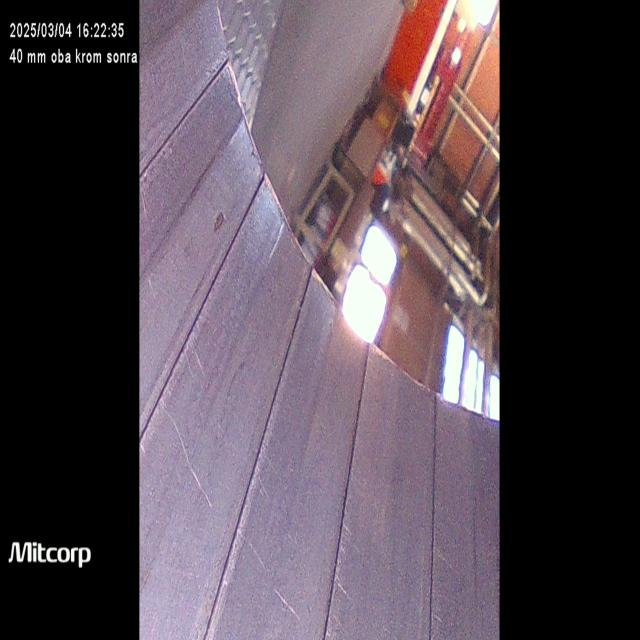hata_4.2: (204, 201, 236, 251)
